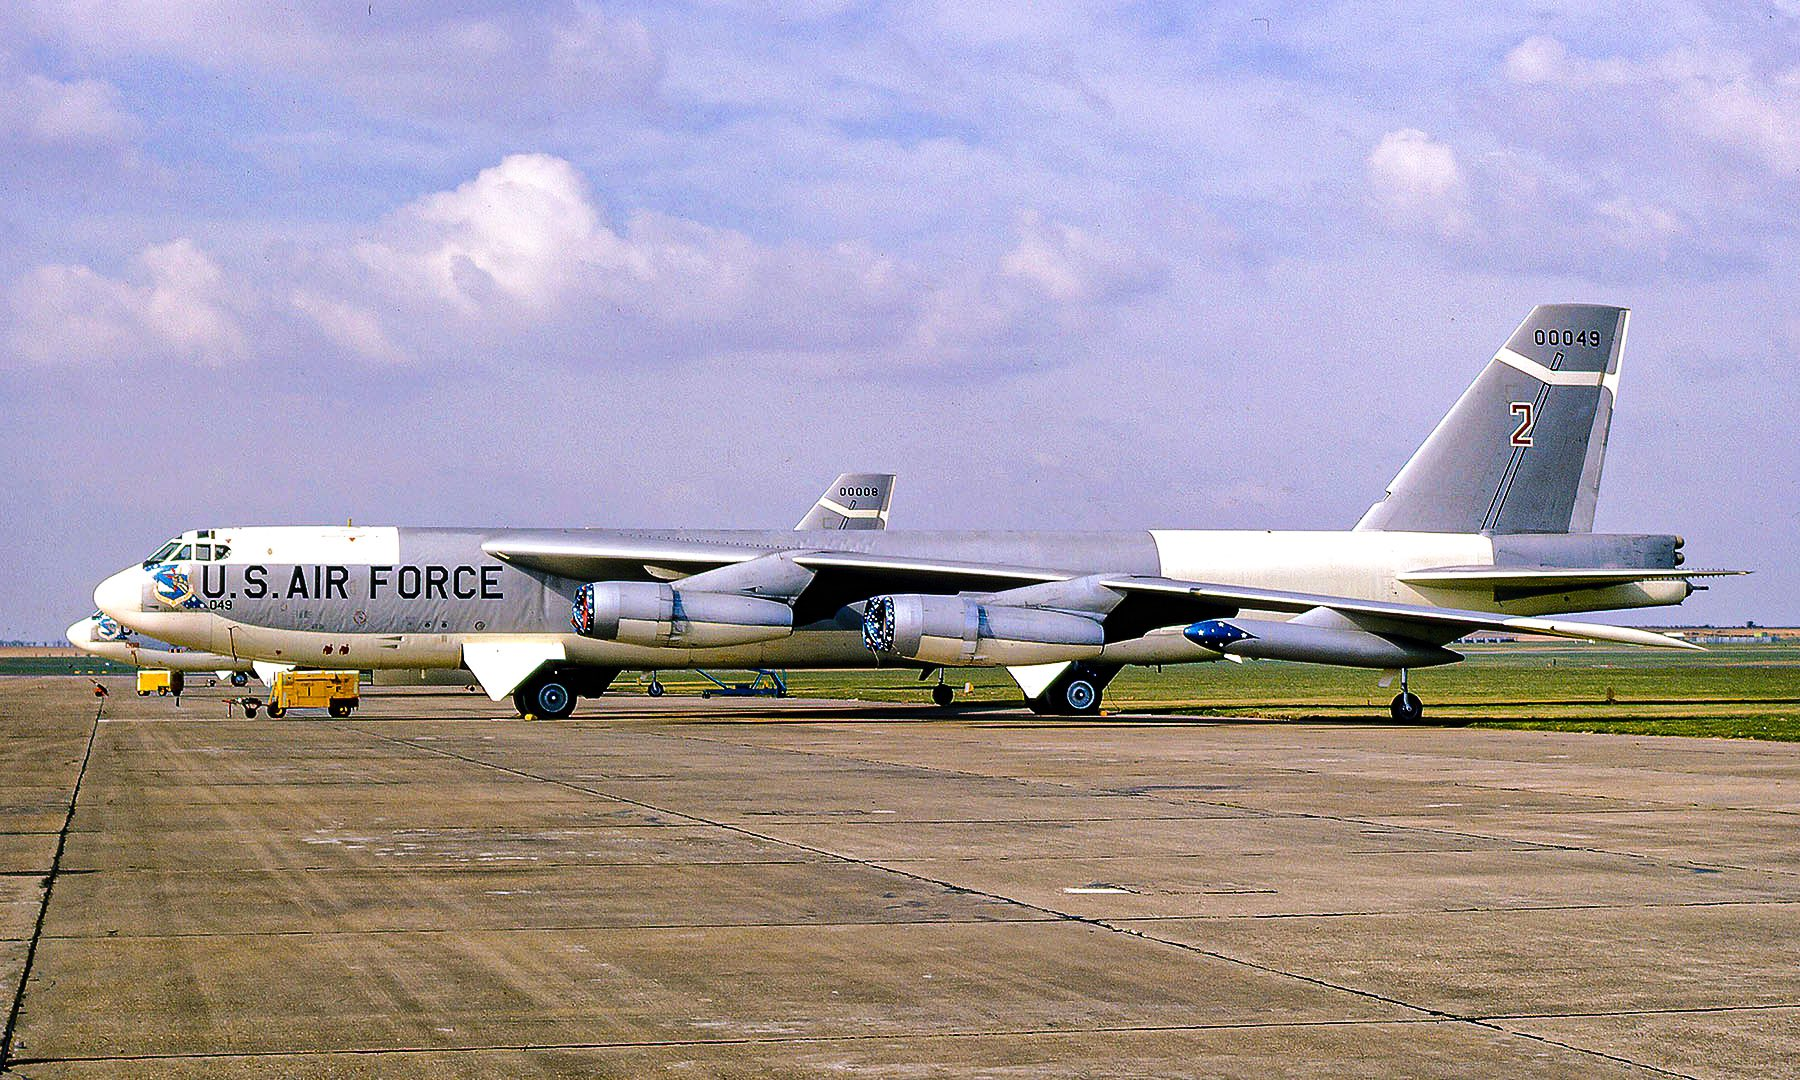B52: (93, 303, 1756, 725), (66, 471, 897, 697)
